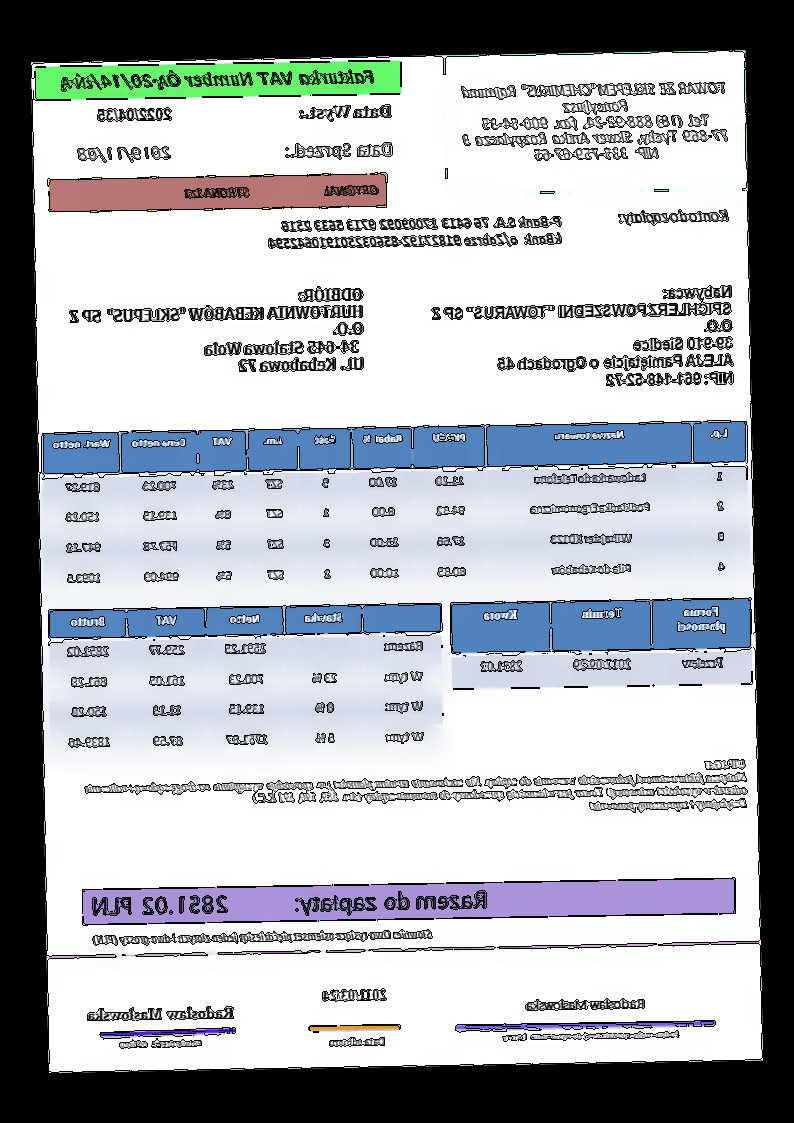Table: (42, 417, 751, 597), (48, 600, 447, 762), (451, 597, 753, 690)
TextBox: (79, 754, 748, 824), (427, 281, 737, 393), (65, 283, 369, 379), (457, 75, 734, 167), (90, 886, 490, 922), (263, 212, 566, 254), (57, 65, 380, 95), (89, 924, 435, 950), (180, 181, 383, 204), (86, 1003, 238, 1026), (499, 1025, 682, 1044), (616, 203, 733, 229), (282, 139, 396, 163), (523, 994, 649, 1013), (295, 101, 396, 124), (74, 142, 175, 165), (96, 103, 175, 124), (319, 985, 392, 1005), (116, 1036, 204, 1052), (326, 1033, 388, 1050)
